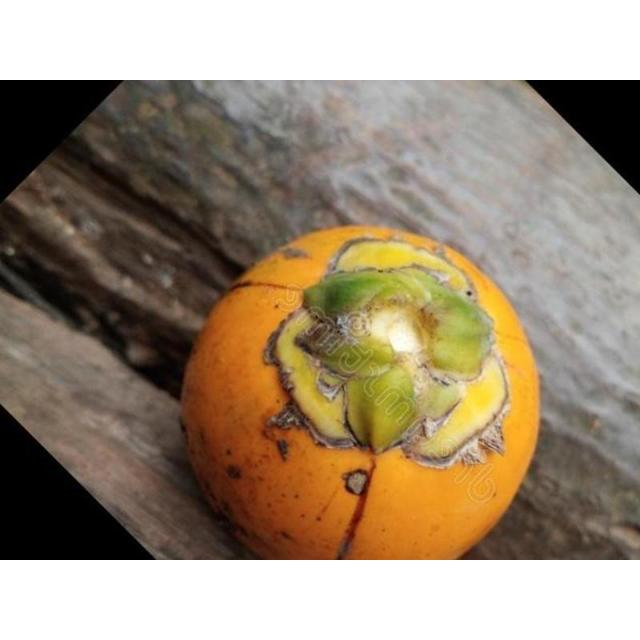good: (179, 225, 542, 559)
